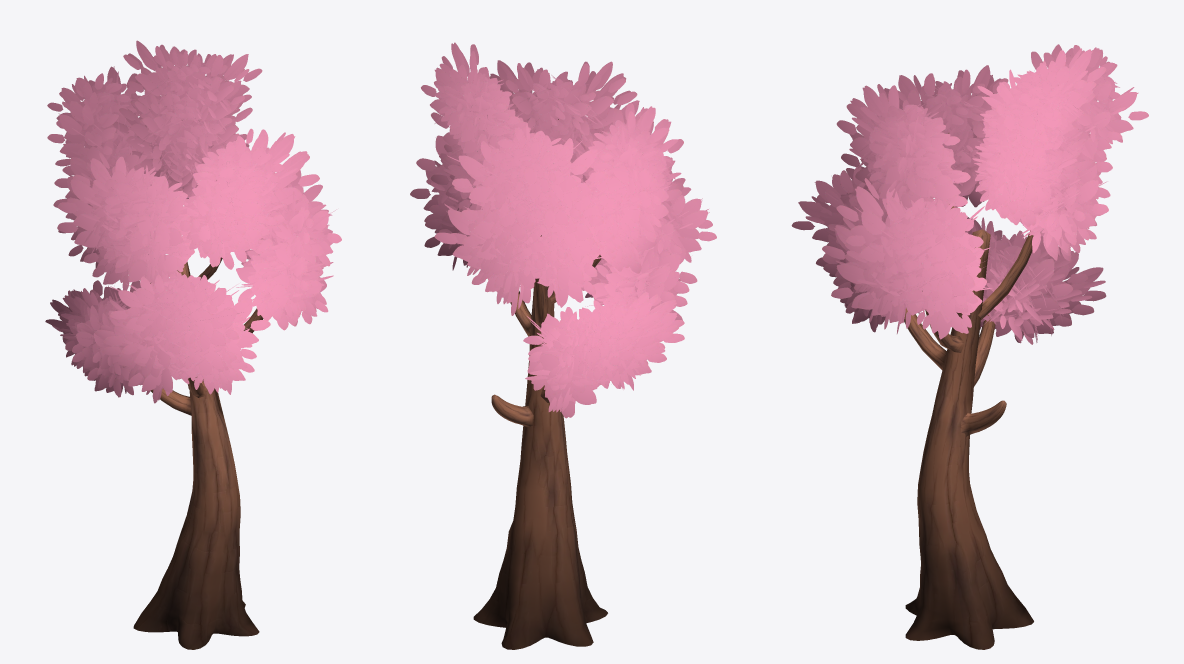
File: tree-wedding-2-young.glb
The picture shows the model from 3 angles, left to right: view 1: azimuth 30°, elevation 25°; view 2: azimuth 150°, elevation 25°; view 3: azimuth 270°, elevation 25°; orthographic projection. The views are drawn at different scales.
Visible parts, largest first — view 1: CommonTree_5; view 2: CommonTree_5; view 3: CommonTree_5.
Boxes of the visible parts, <box> form: CommonTree_5: <box>45,40,341,649</box>; CommonTree_5: <box>410,42,716,649</box>; CommonTree_5: <box>791,44,1148,649</box>.
Bounding box in the file's own units: 1.26 × 2.4 × 1.45.
2 materials, 2 textured.
